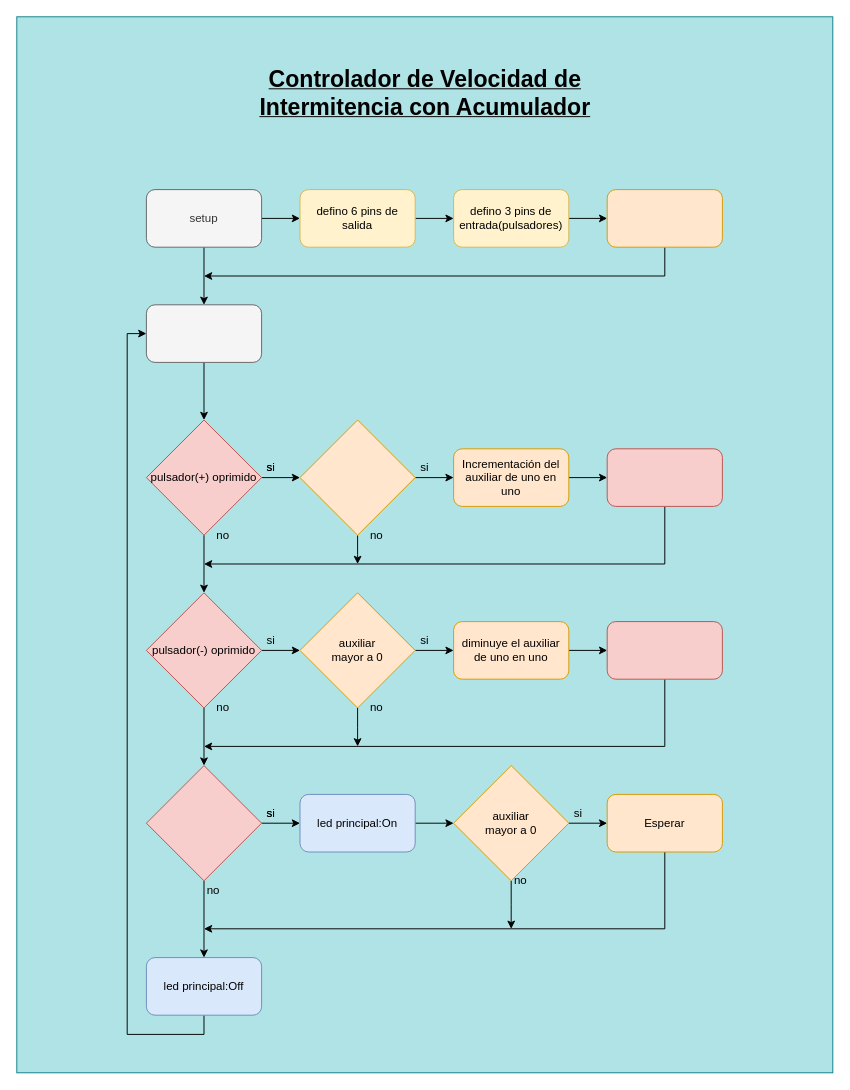
Image size: 850x1090. Some labels were removed from this diagram. Here are the shapes that lost their labels. From the top down, the box of each, then its label:
(606, 189, 722, 247): declaro e inicializo auxiliar
(145, 304, 262, 362): loop
(299, 419, 415, 535): auxiliar menor a 5
(606, 448, 722, 506): enciende led segun la incrementacion del auxiliar
(606, 621, 722, 679): apaga led segun disminuye el auxiliar
(145, 765, 262, 881): pulsador led oprimido
